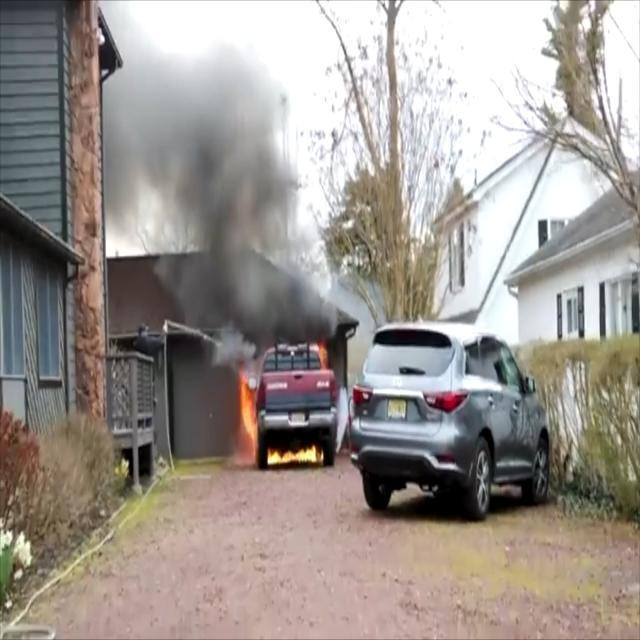fire: (236, 358, 260, 459), (262, 444, 327, 468), (312, 332, 334, 374)
